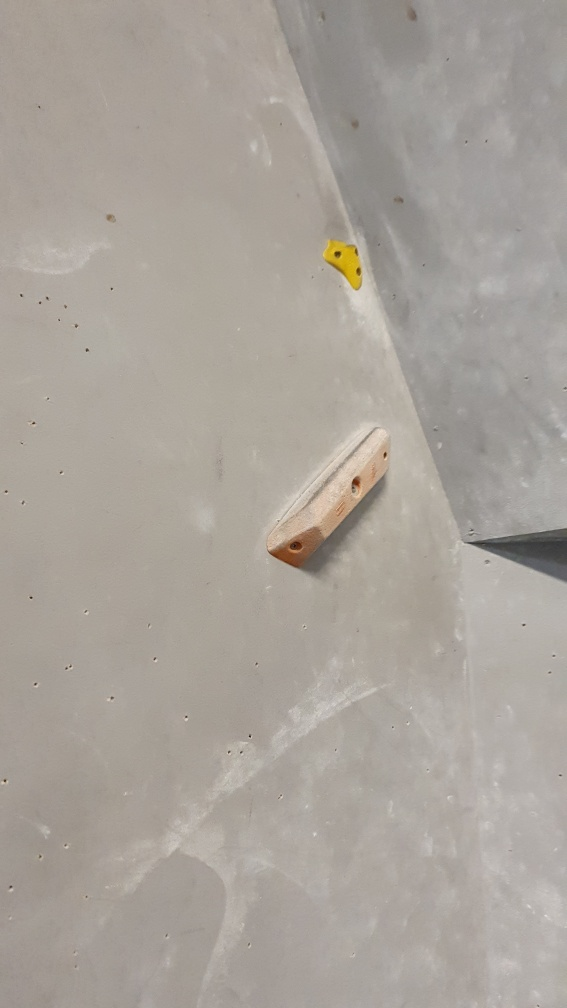Pinch: (262, 426, 392, 570)
